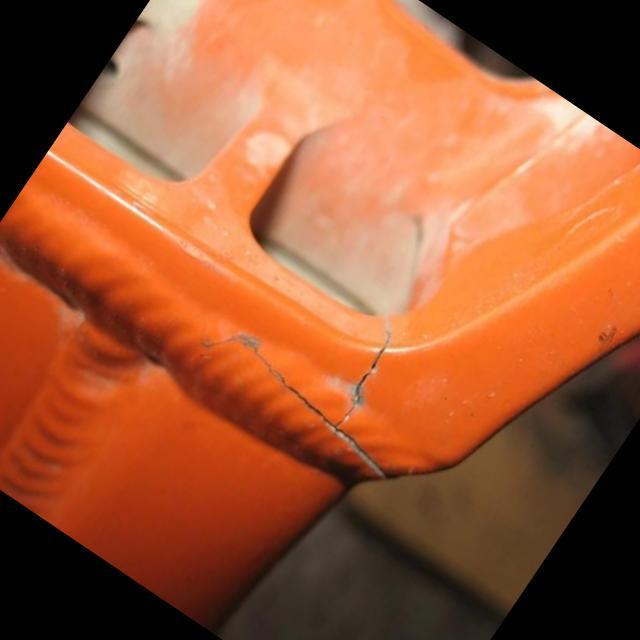defect: (190, 317, 394, 482)
